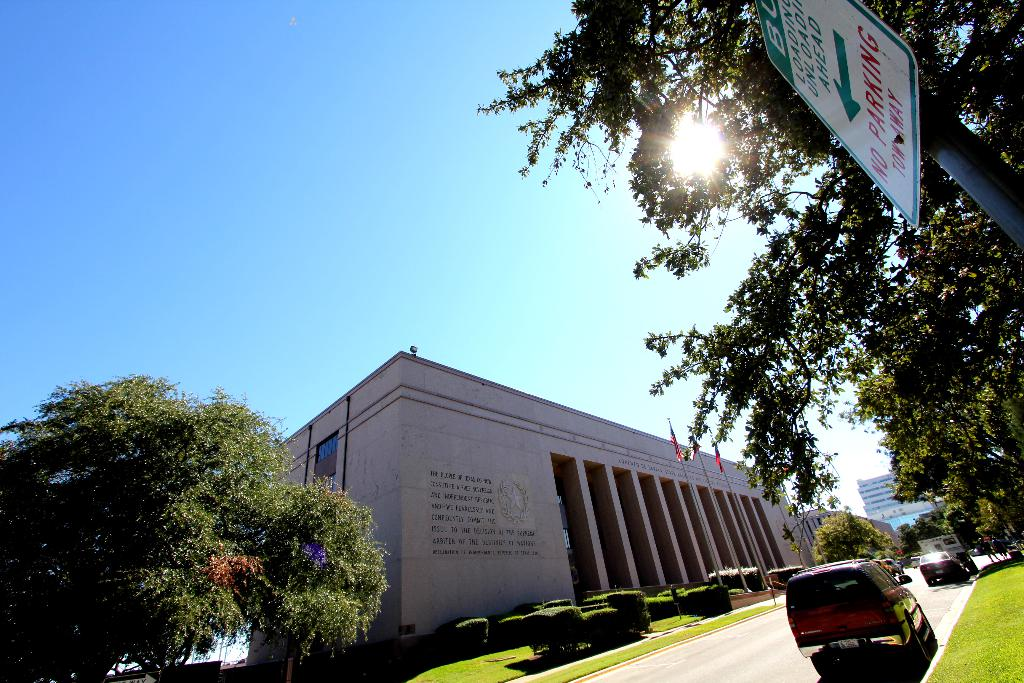Car: (780, 555, 940, 682), (915, 551, 968, 585)
